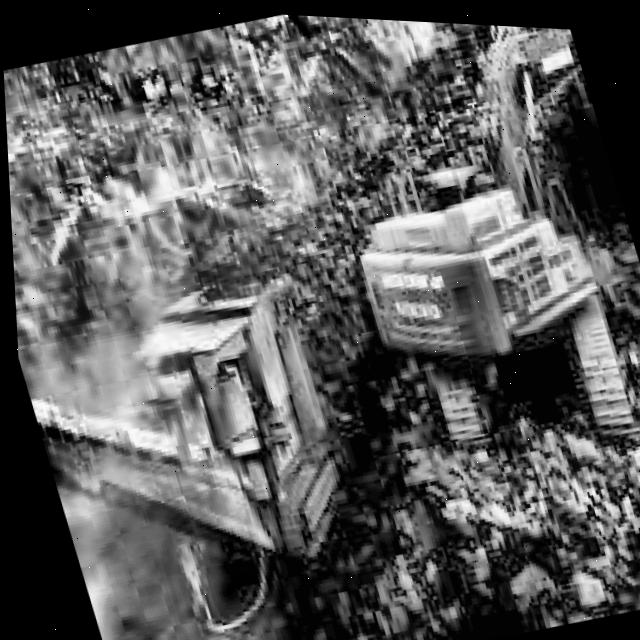excavator: (290, 12, 640, 462)
